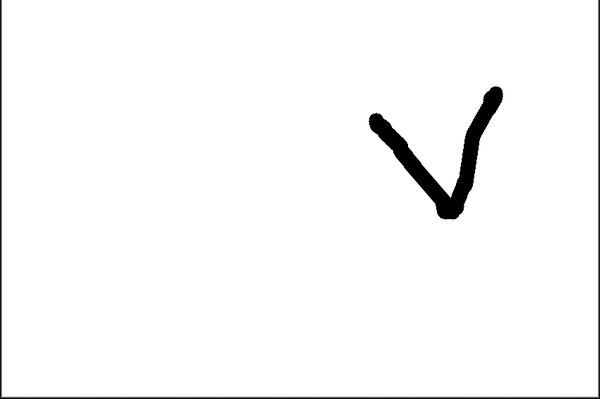V: (359, 76, 503, 218)
